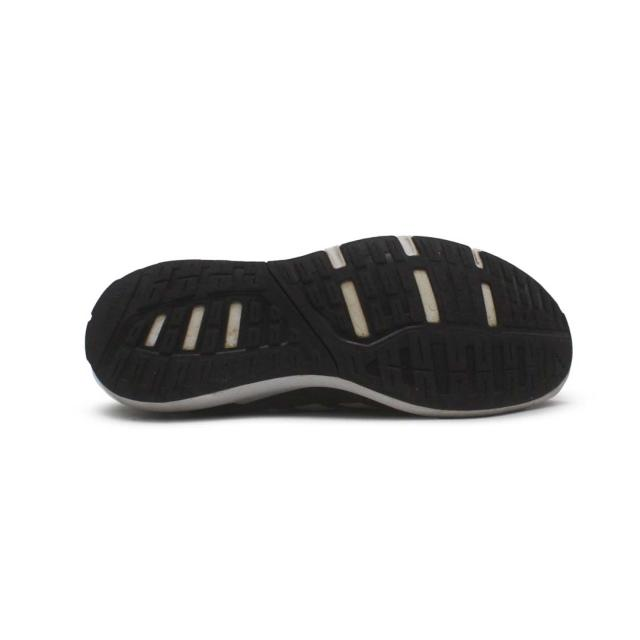outersole: (83, 234, 572, 414)
